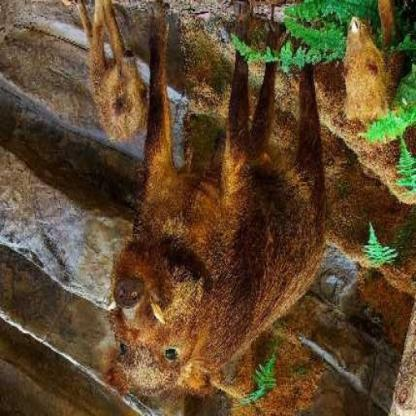boar: (43, 10, 416, 416)
